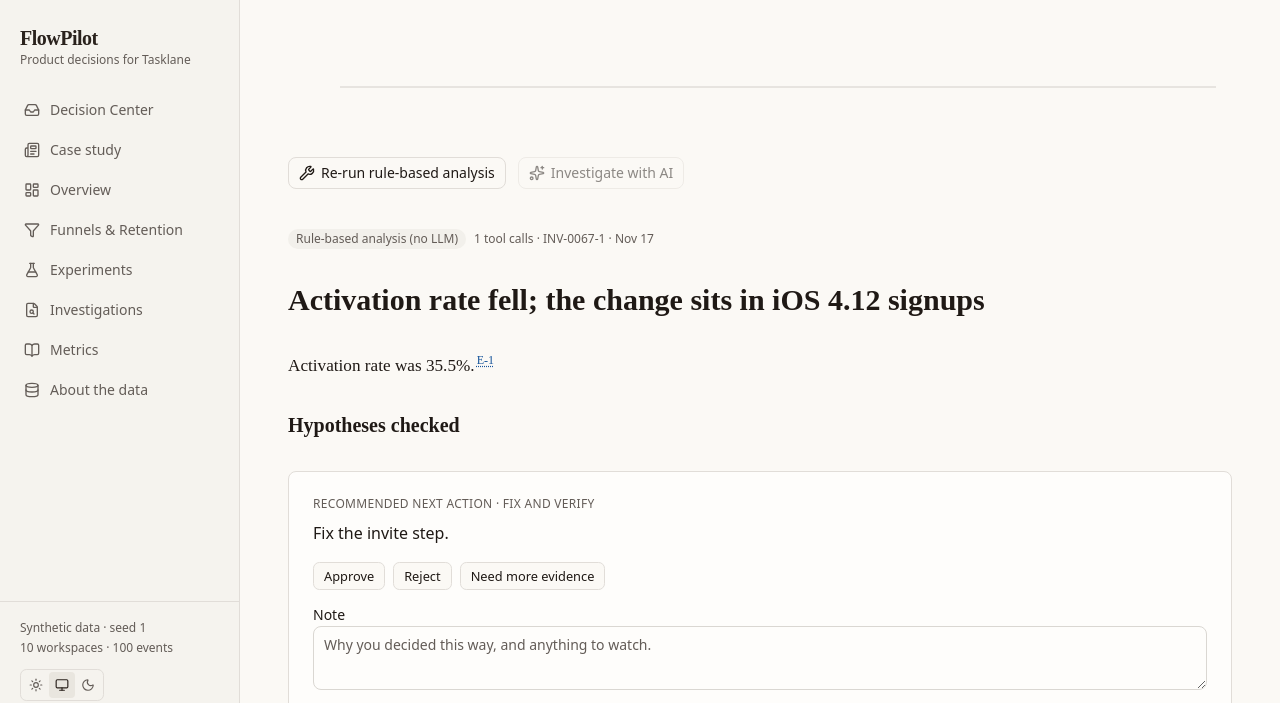
Scenario: Alert page › opens the evidence behind a claim
(page scrolled)
Click the button named "Show evidence E-1" at (485, 360), box [477,350,494,370]
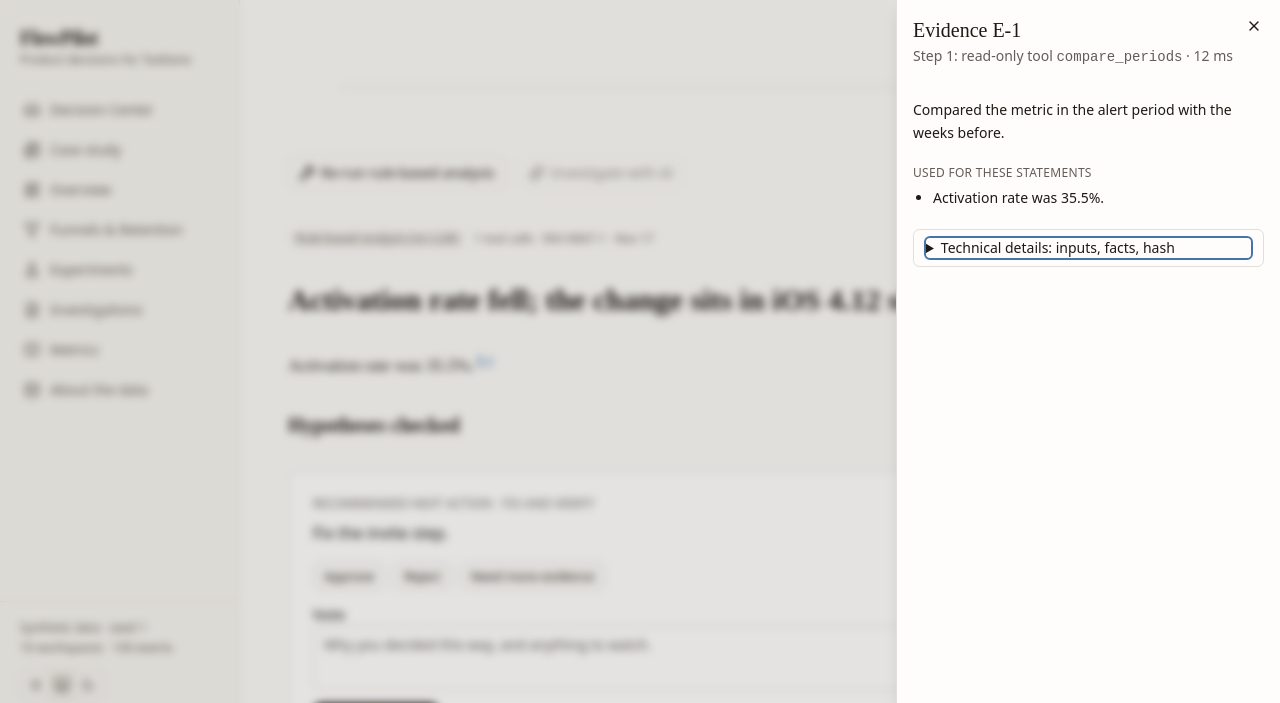
Now the heading "Evidence E-1" is shown, box [913,19,1021,41]
